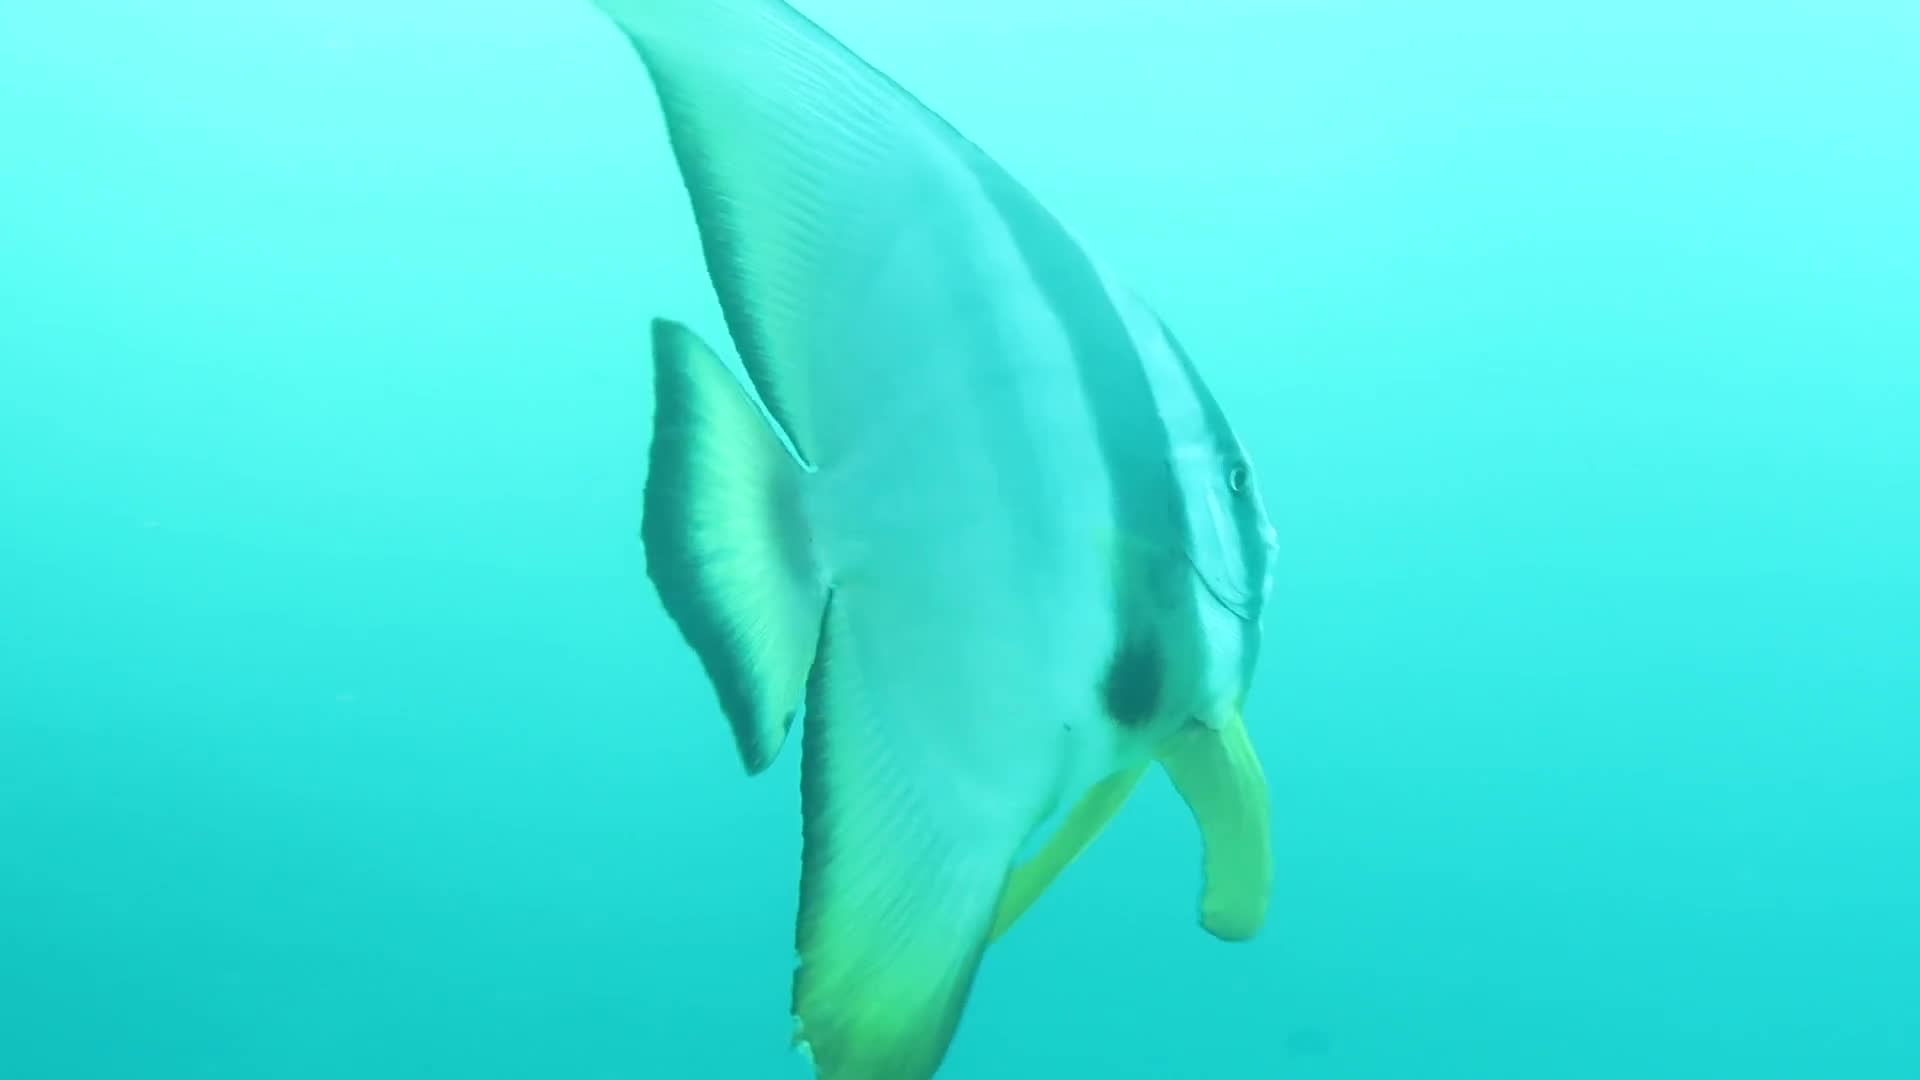Platax teira: (538, 1, 1403, 1080)
